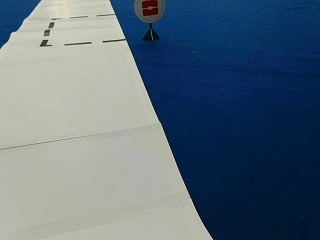company: (134, 0, 165, 22)
